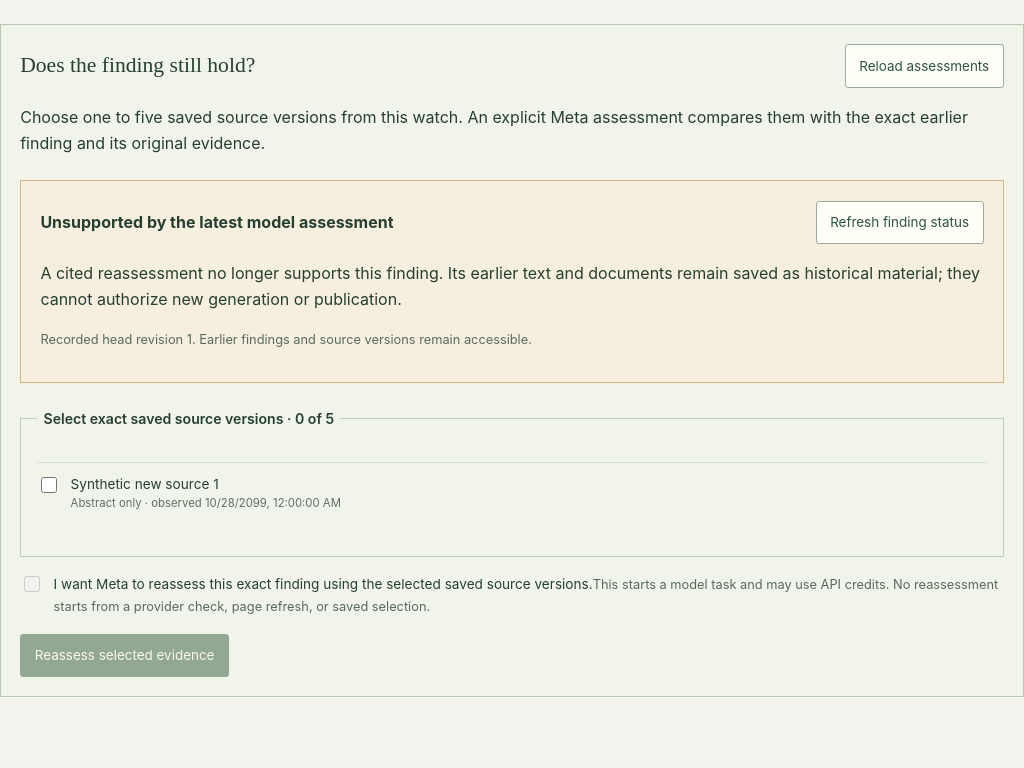
explicit version-bound Meta reassessments › allows restoring review of an unsupported current baseline but blocks historical source revisions
Step 1. Click the checkbox named "Reassess with source: Synthetic new source 1" → point(49, 485), box x1=41 y1=477 x2=57 y2=493
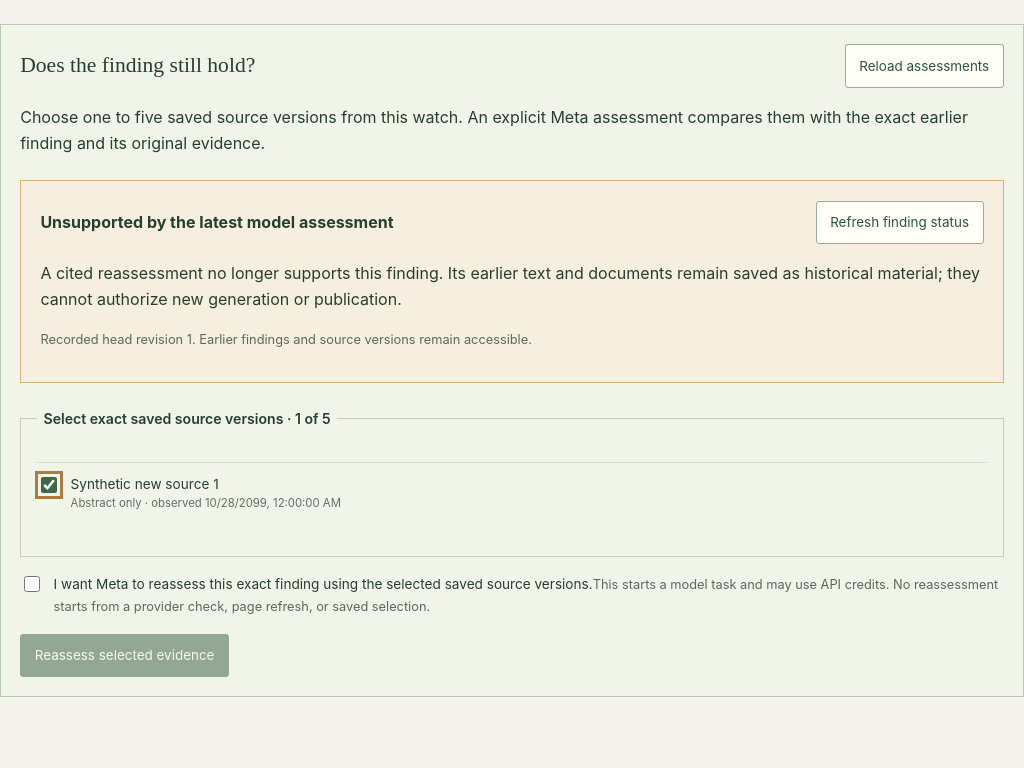
Step 2. Click the checkbox labelled "I want Meta to reassess this exact finding" → point(32, 584), box x1=24 y1=576 x2=40 y2=592
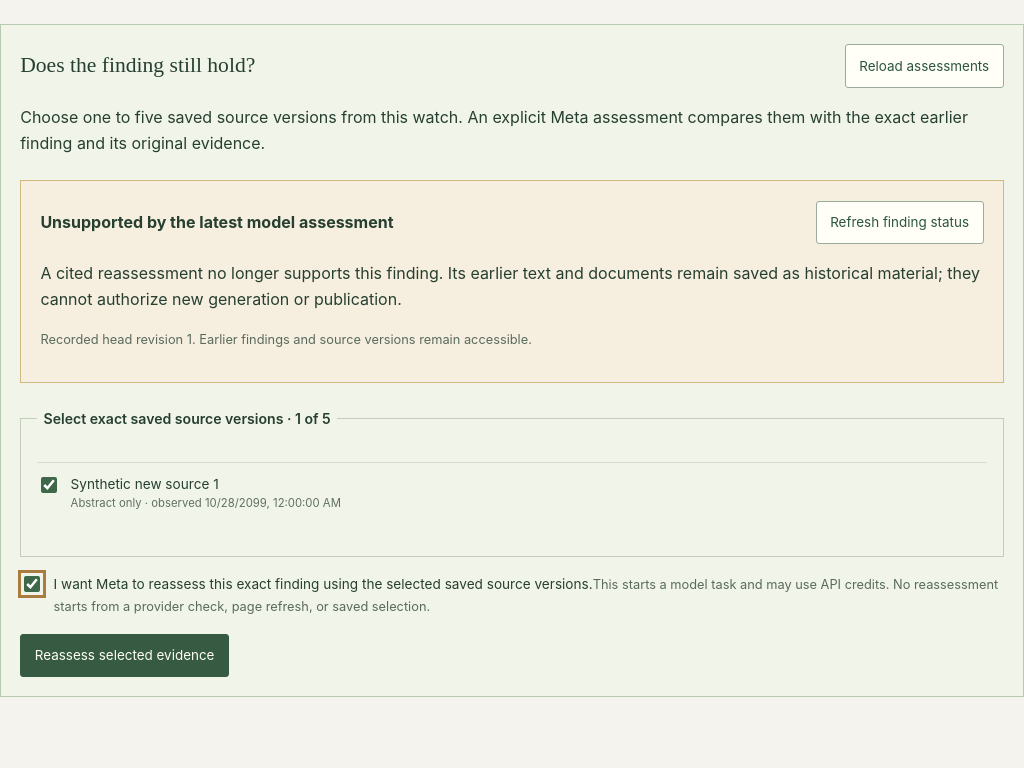
Expected: the button "Reassess selected evidence" is enabled, x1=20 y1=634 x2=229 y2=677
Step 3. Click the button "Refresh finding status" → point(900, 222), box x1=816 y1=200 x2=984 y2=244
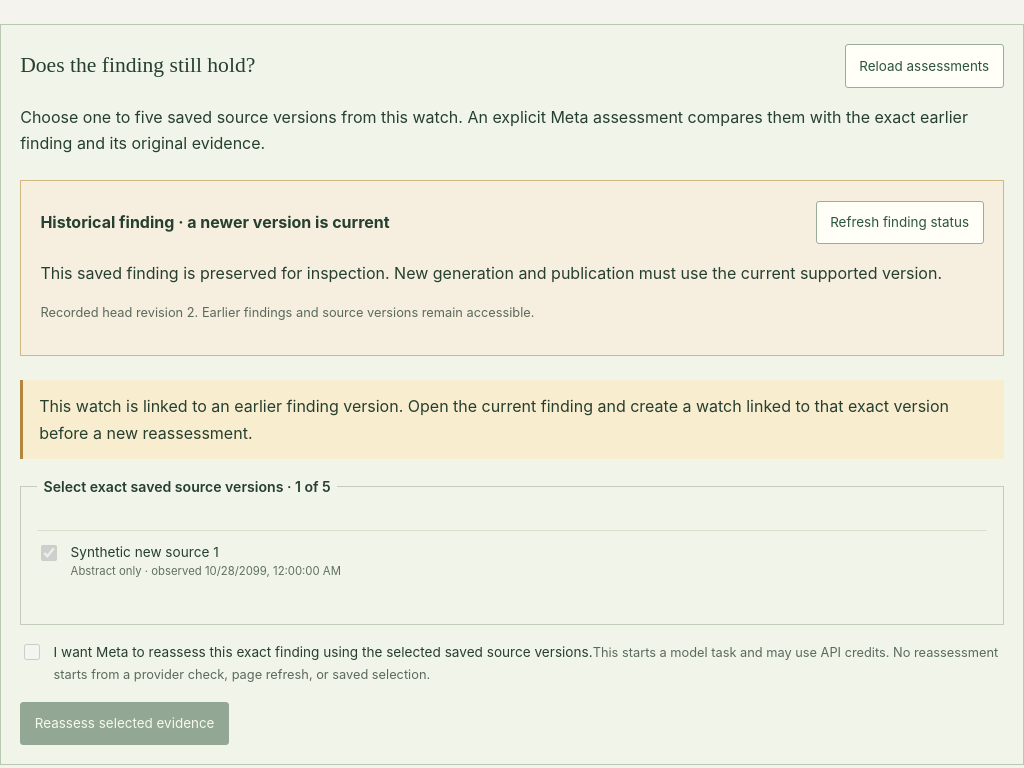
Expected: the text "This watch is linked to an earlier finding version" is shown, x1=39 y1=396 x2=949 y2=443
Expected: the button "Reassess selected evidence" is disabled, x1=20 y1=702 x2=229 y2=745
